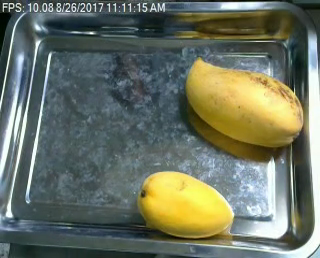Mango: (181, 54, 303, 152), (127, 167, 245, 242)
